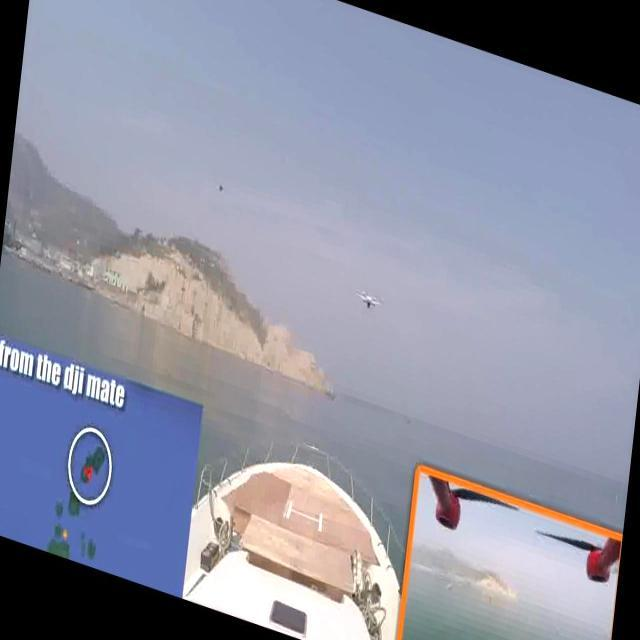drone: (352, 276, 385, 322), (214, 174, 232, 202)
